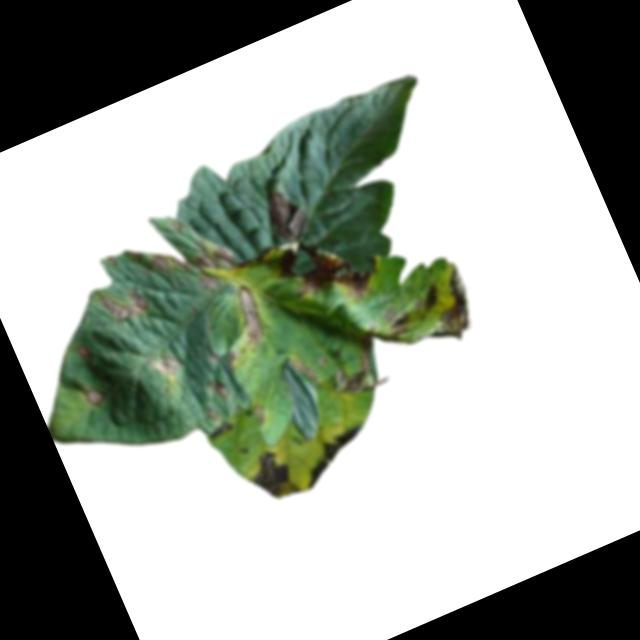Early_blight: (245, 215, 379, 335), (297, 331, 391, 414), (410, 264, 485, 348), (291, 420, 377, 489), (239, 441, 304, 510), (257, 180, 314, 246), (225, 280, 275, 348), (96, 277, 152, 329), (190, 240, 241, 294), (372, 298, 418, 348), (405, 276, 446, 319), (145, 346, 184, 382), (205, 417, 237, 443), (81, 385, 107, 411), (72, 339, 94, 363), (151, 249, 172, 273), (210, 376, 229, 398), (203, 405, 221, 422)
